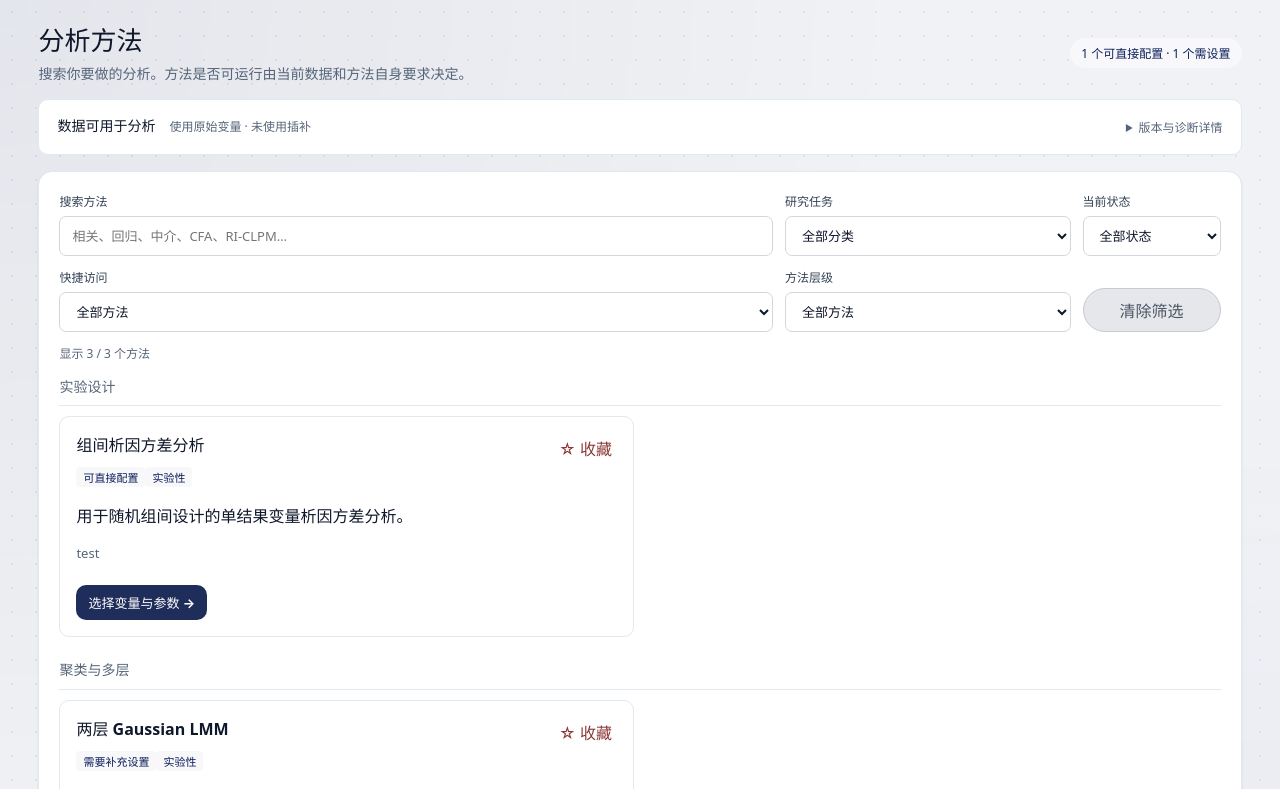
it: ContextCapabilityCatalog › searches aliases and blocked methods, filters readiness, and restores the list when filters clear
Type "factorial ANOVA" into the search field labelled "搜索方法" at [416, 236], box x1=59 y1=216 x2=773 y2=256
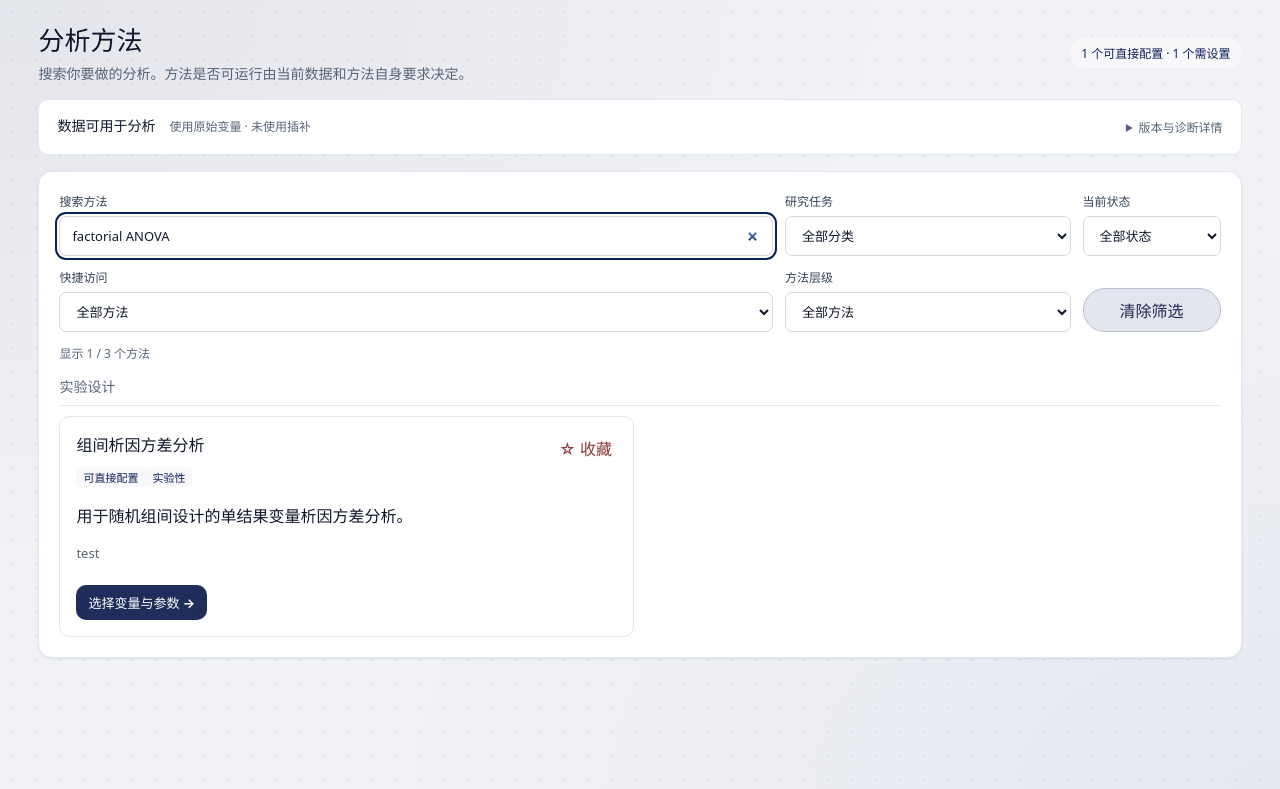
Expected: the button with aria-label "配置组间析因方差分析" is shown, x1=76 y1=585 x2=207 y2=620
Replace the text in the search field labelled "搜索方法" with "LMM" at [416, 236], box x1=59 y1=216 x2=773 y2=256
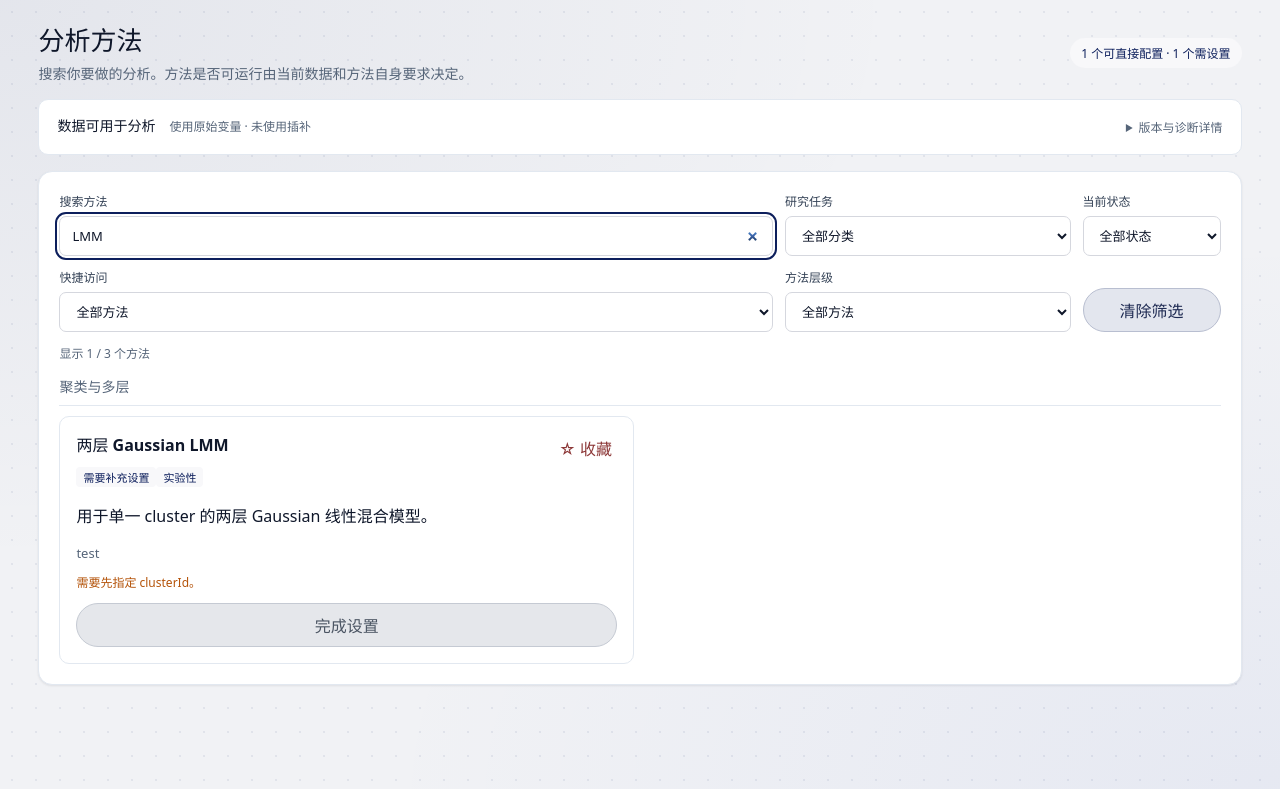
Expected: the heading "两层 Gaussian LMM" is shown, x1=76 y1=434 x2=229 y2=456
Expected: the text "需要先指定 clusterId。" is shown, x1=76 y1=574 x2=201 y2=591
Clear the search field labelled "搜索方法" at [416, 236], box x1=59 y1=216 x2=773 y2=256
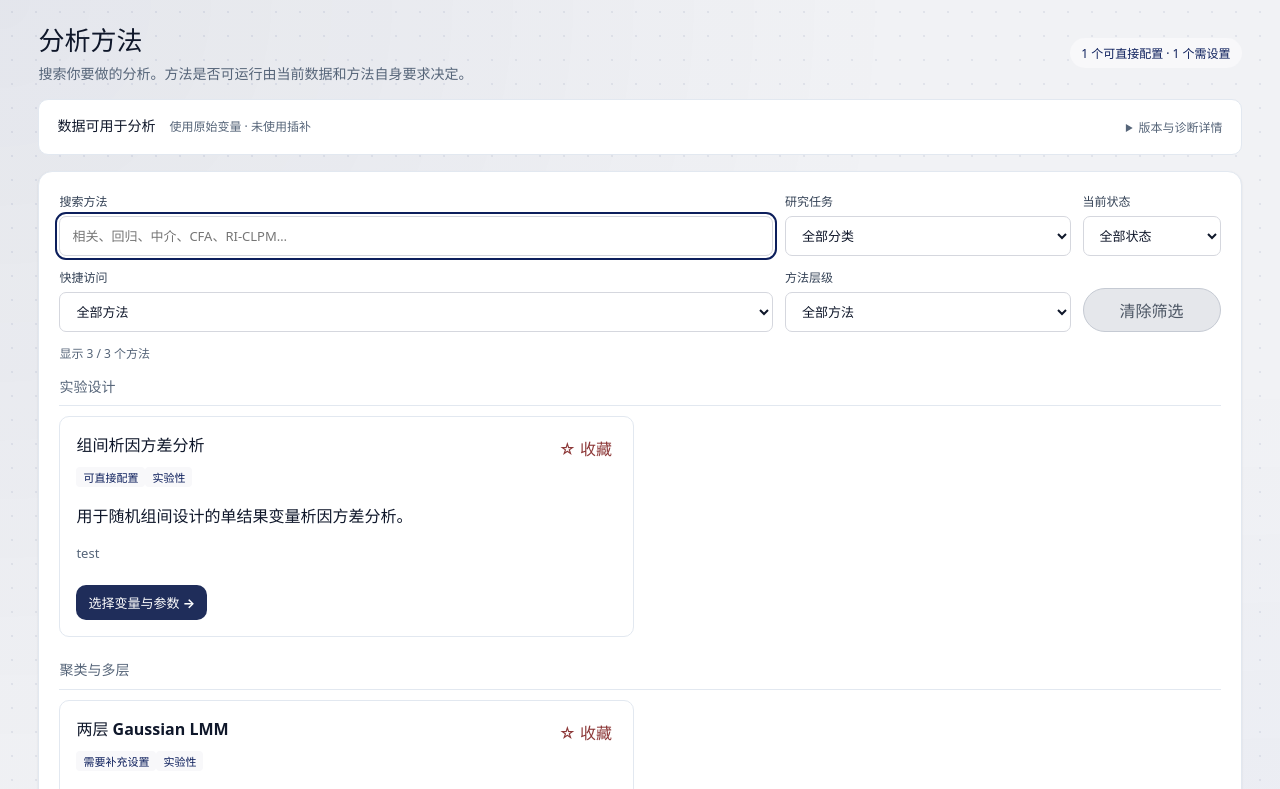
Select "需要设置" in the dropdown labelled "当前状态" at [1152, 236], box x1=1083 y1=216 x2=1221 y2=256
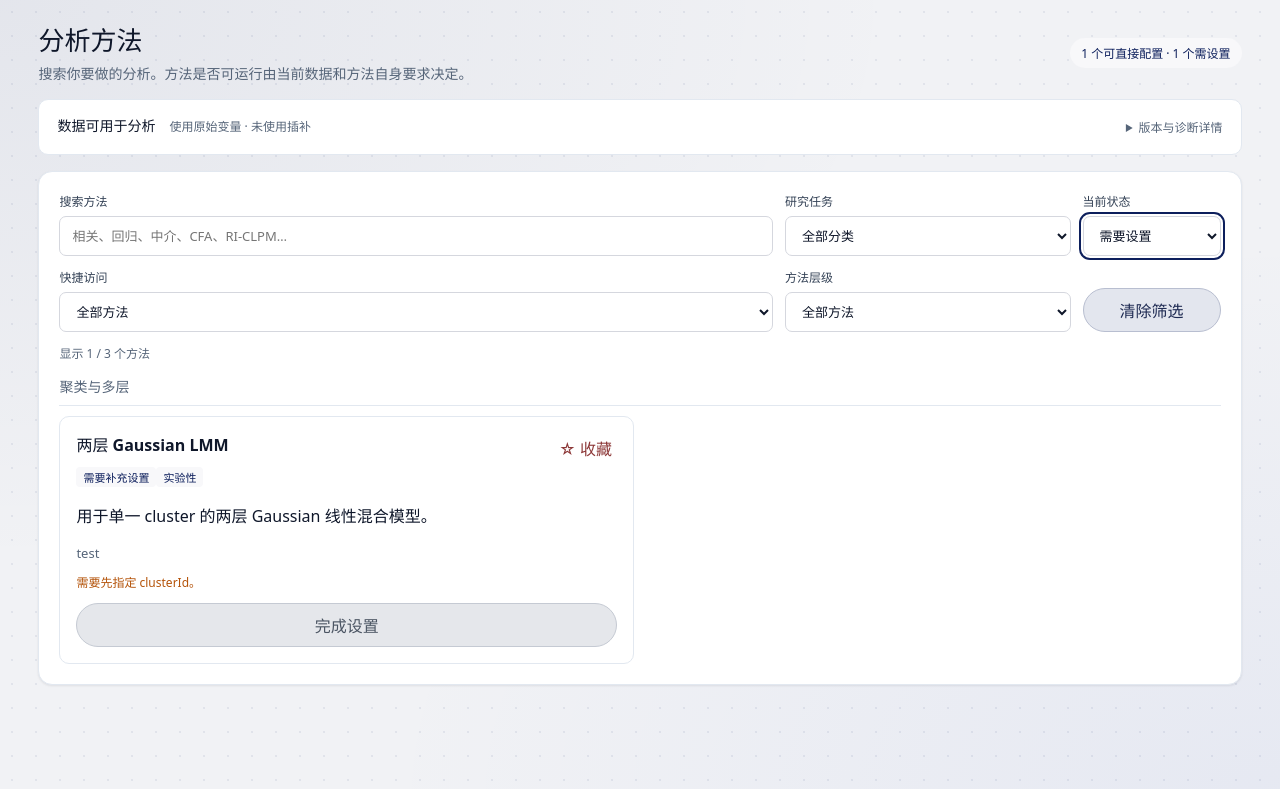
Expected: the heading "两层 Gaussian LMM" is shown, x1=76 y1=434 x2=229 y2=456
Expected: the heading "组间析因方差分析" is gone
Click the button "清除筛选" at [1152, 310], box x1=1083 y1=288 x2=1221 y2=332
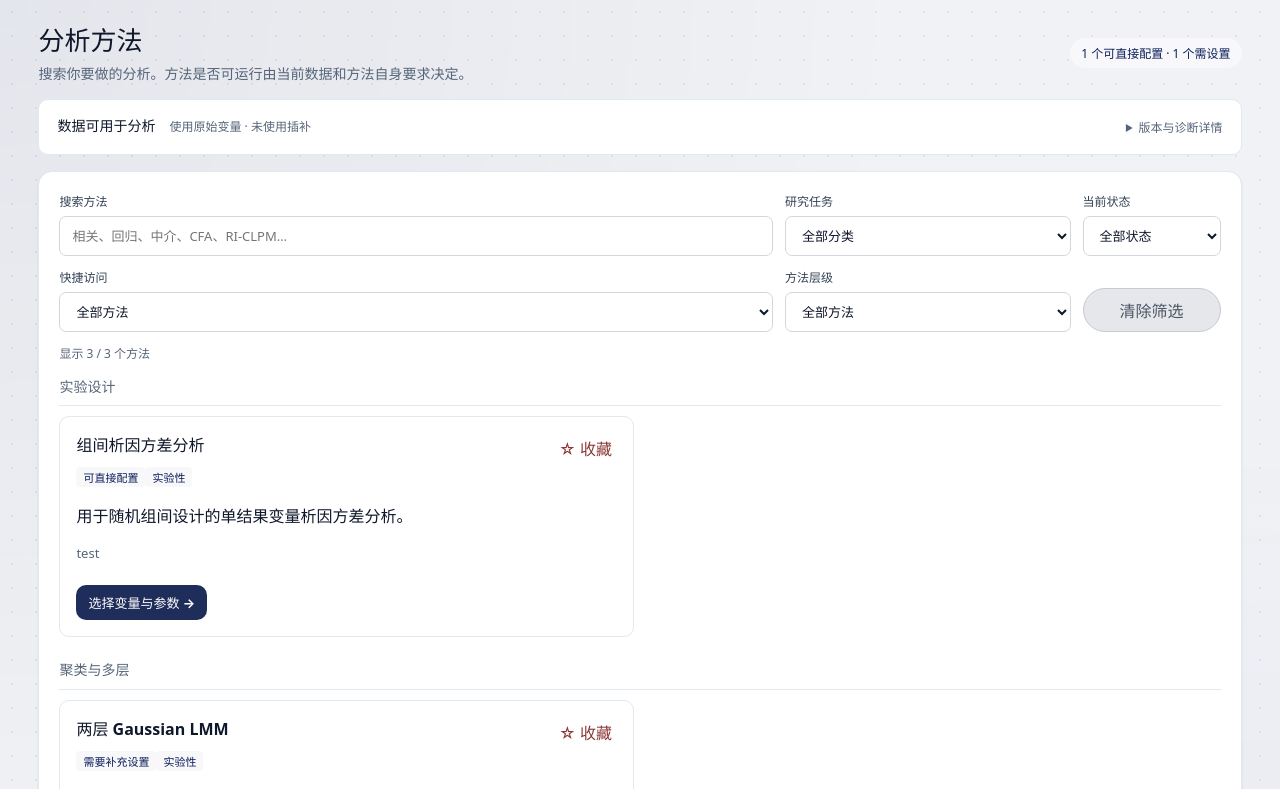
Expected: the button with aria-label "配置组间析因方差分析" is shown, x1=76 y1=585 x2=207 y2=620
